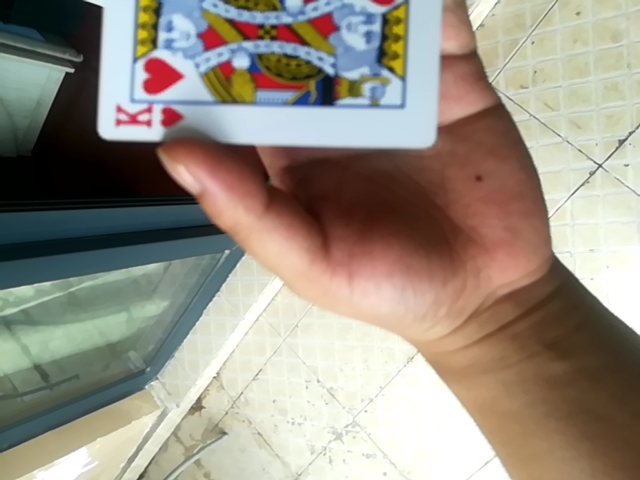hx k: (91, 0, 445, 148)
